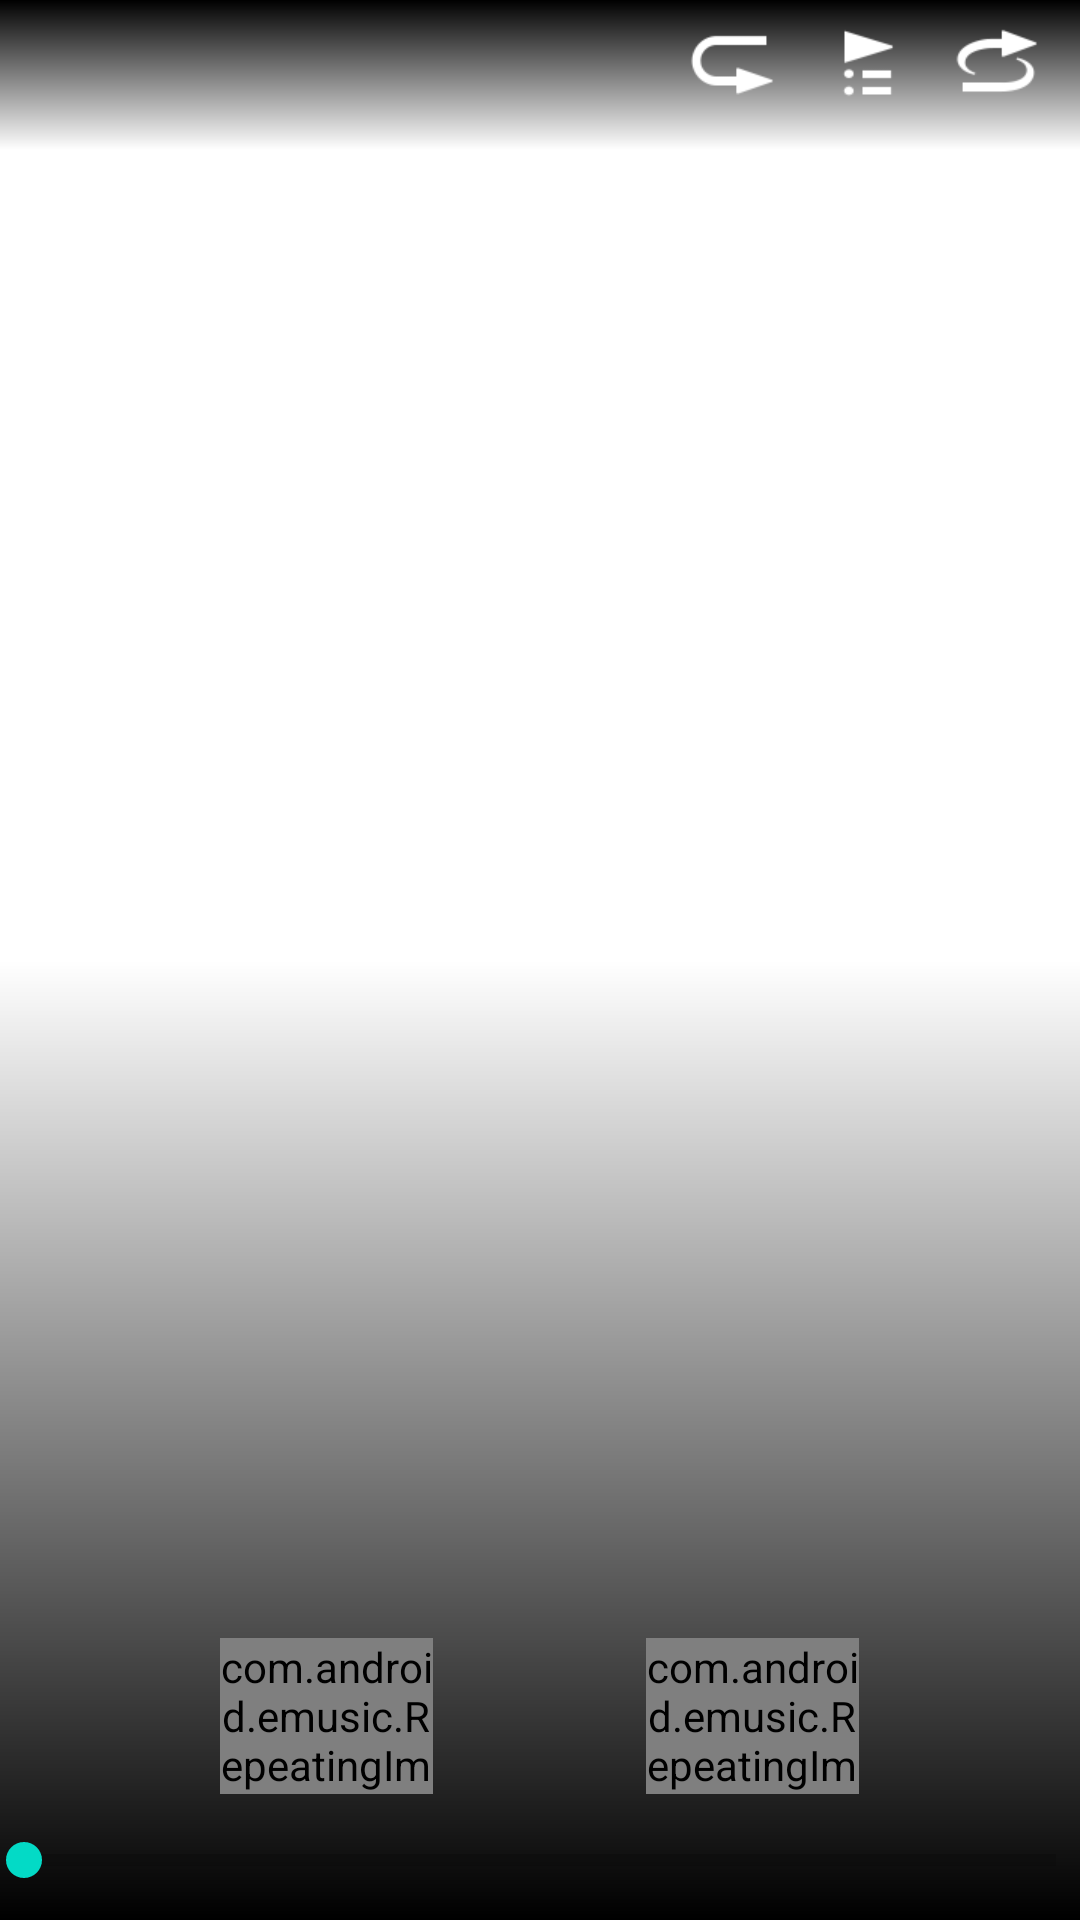

Point at icon controls on the screen. Image size 1080px×1920px, points as point (x, y).
plst: point (867, 63)
